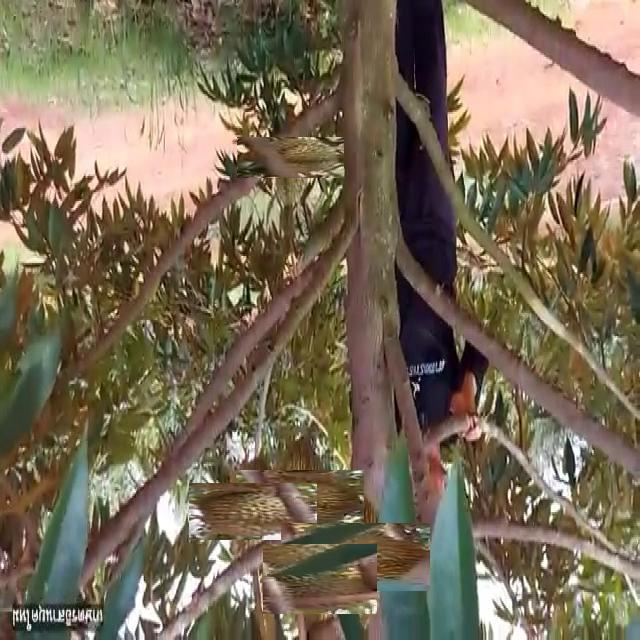durian: (302, 503, 411, 611), (252, 452, 348, 547), (206, 466, 300, 558), (273, 533, 366, 625), (253, 120, 327, 195)
